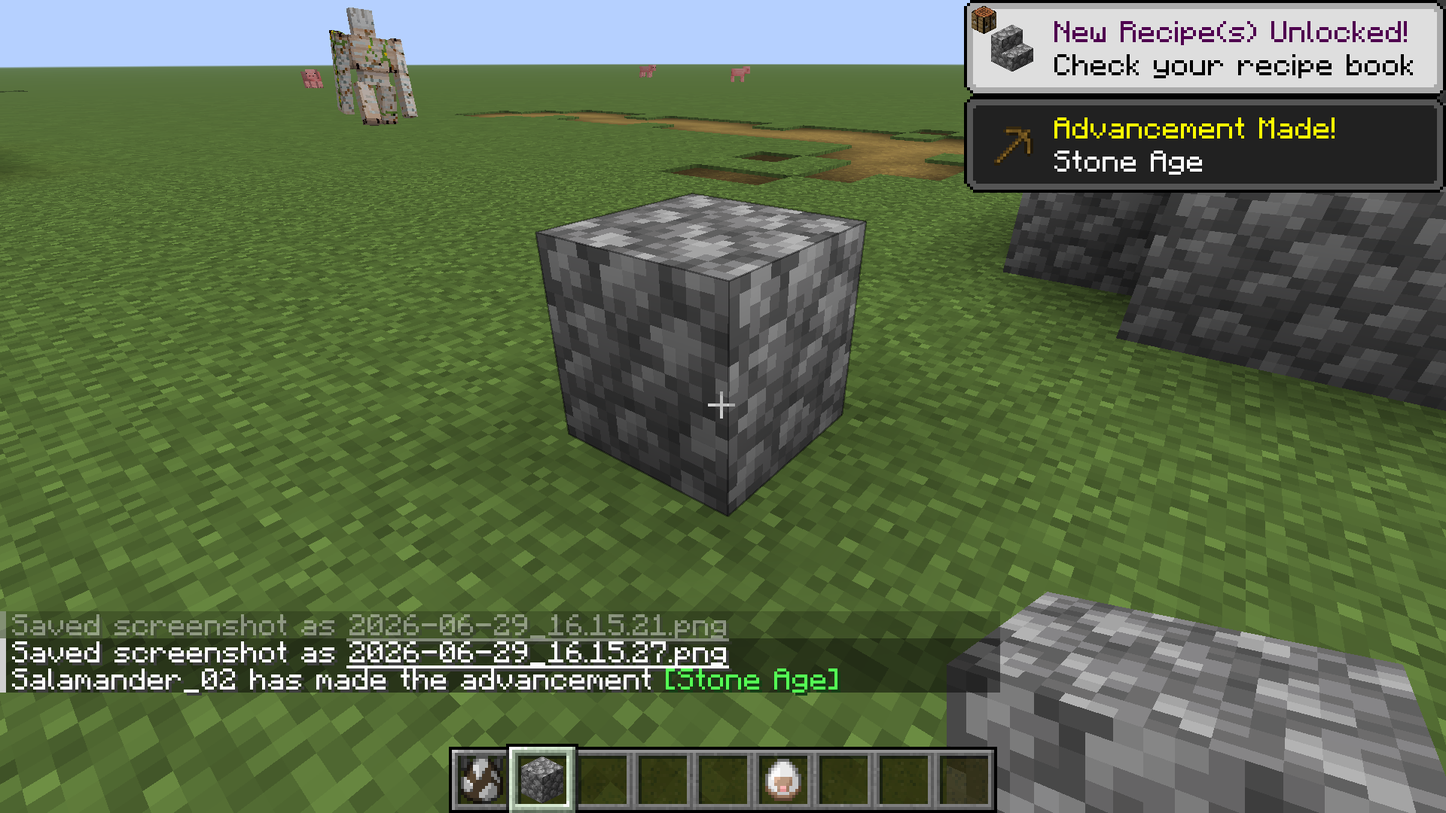cablestone: (952, 593, 1445, 807), (539, 192, 866, 513), (1121, 198, 1442, 388), (1003, 192, 1175, 304)
